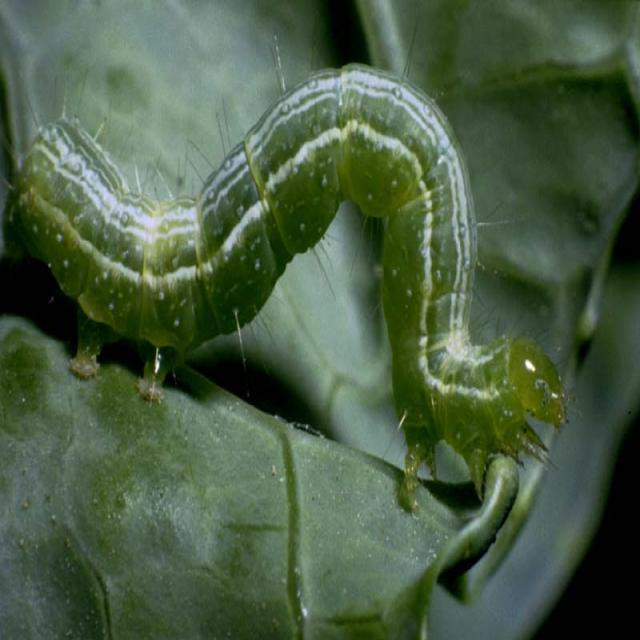looper: (6, 58, 568, 501)
